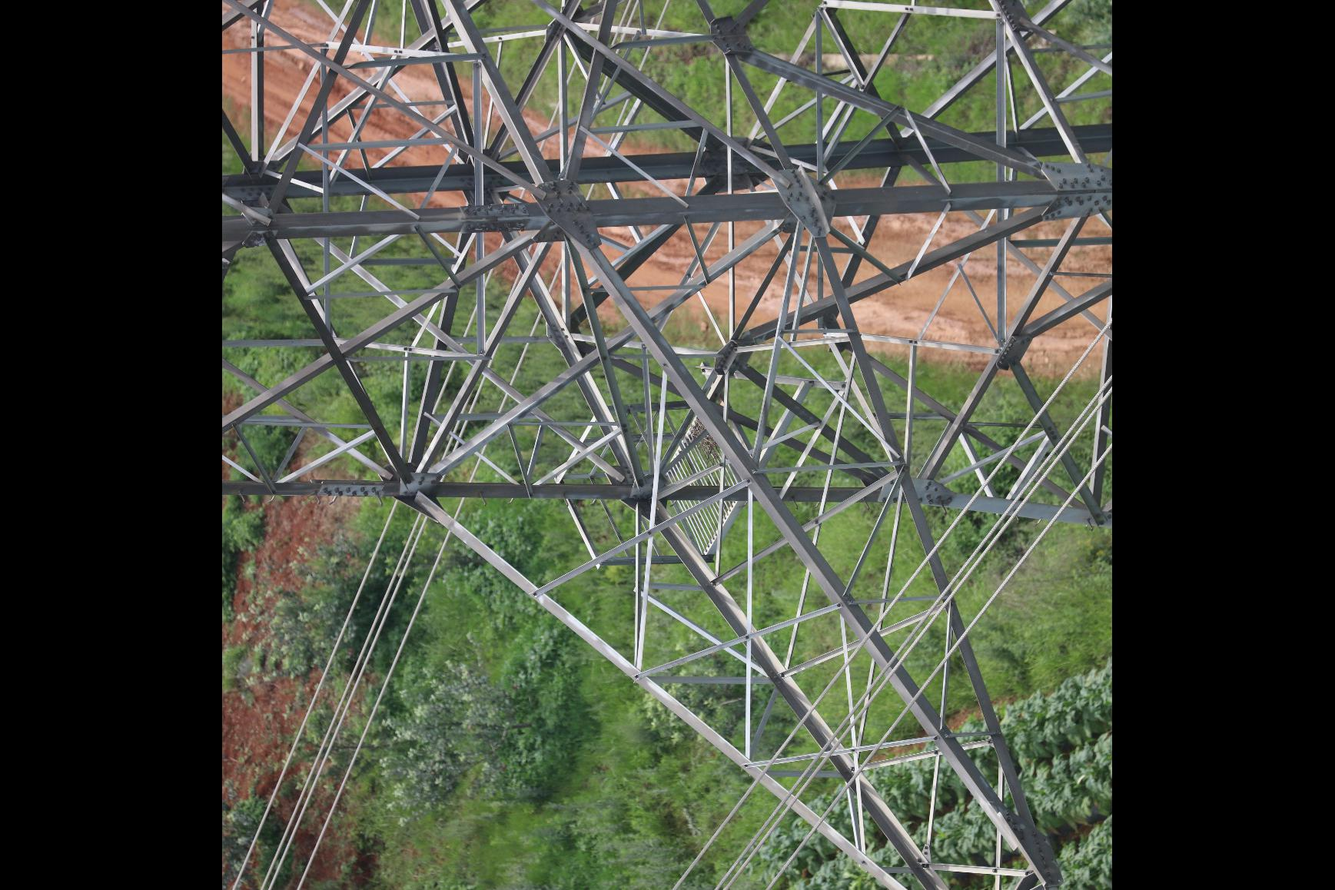nest: (689, 415, 721, 462)
